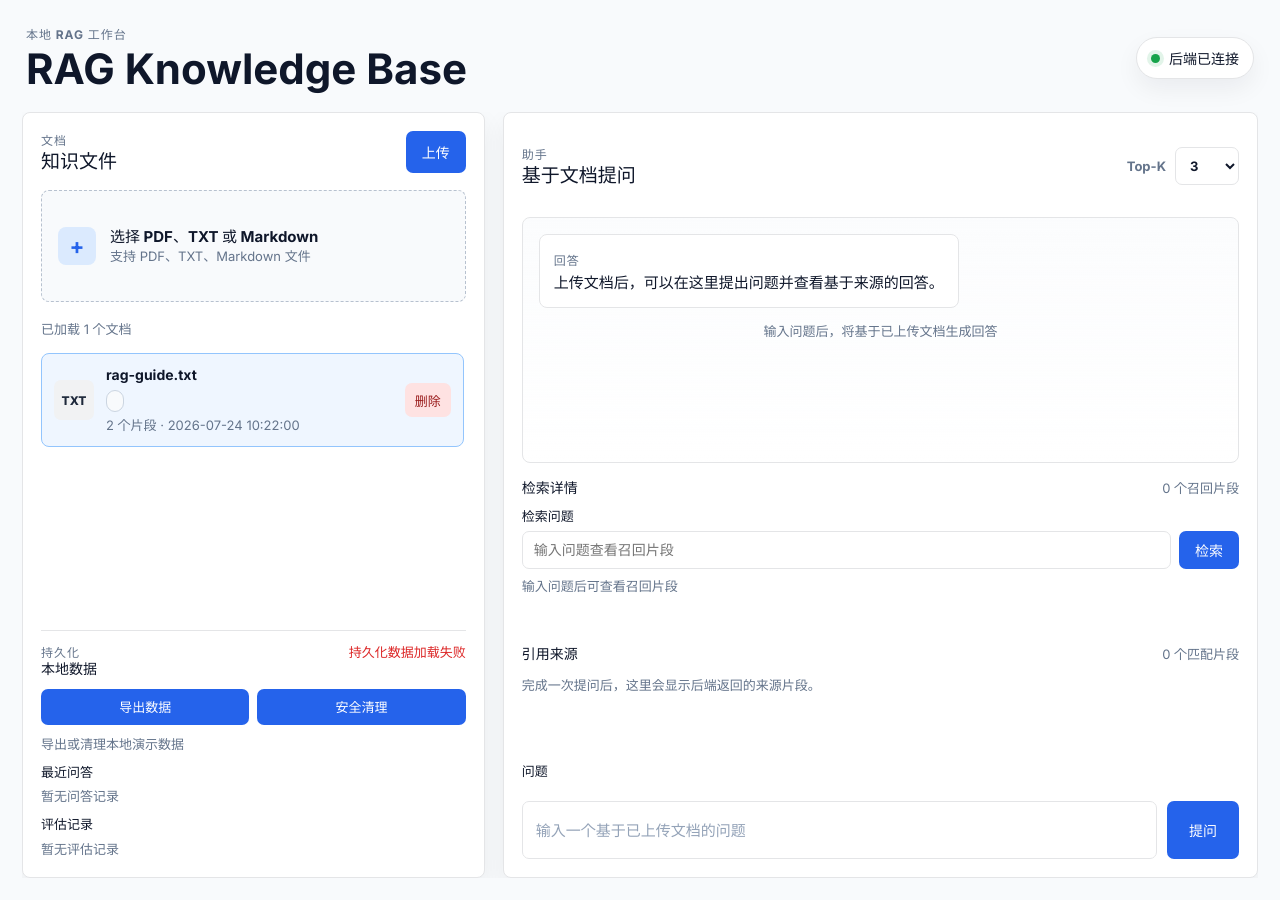
App document workflow › shows a delete error and keeps the document when deletion fails
Expected: the heading "rag-guide.txt" is shown, [106,366,197,383]
Click the button with aria-label "删除 rag-guide.txt": {"x": 428, "y": 400} [405,383,451,417]
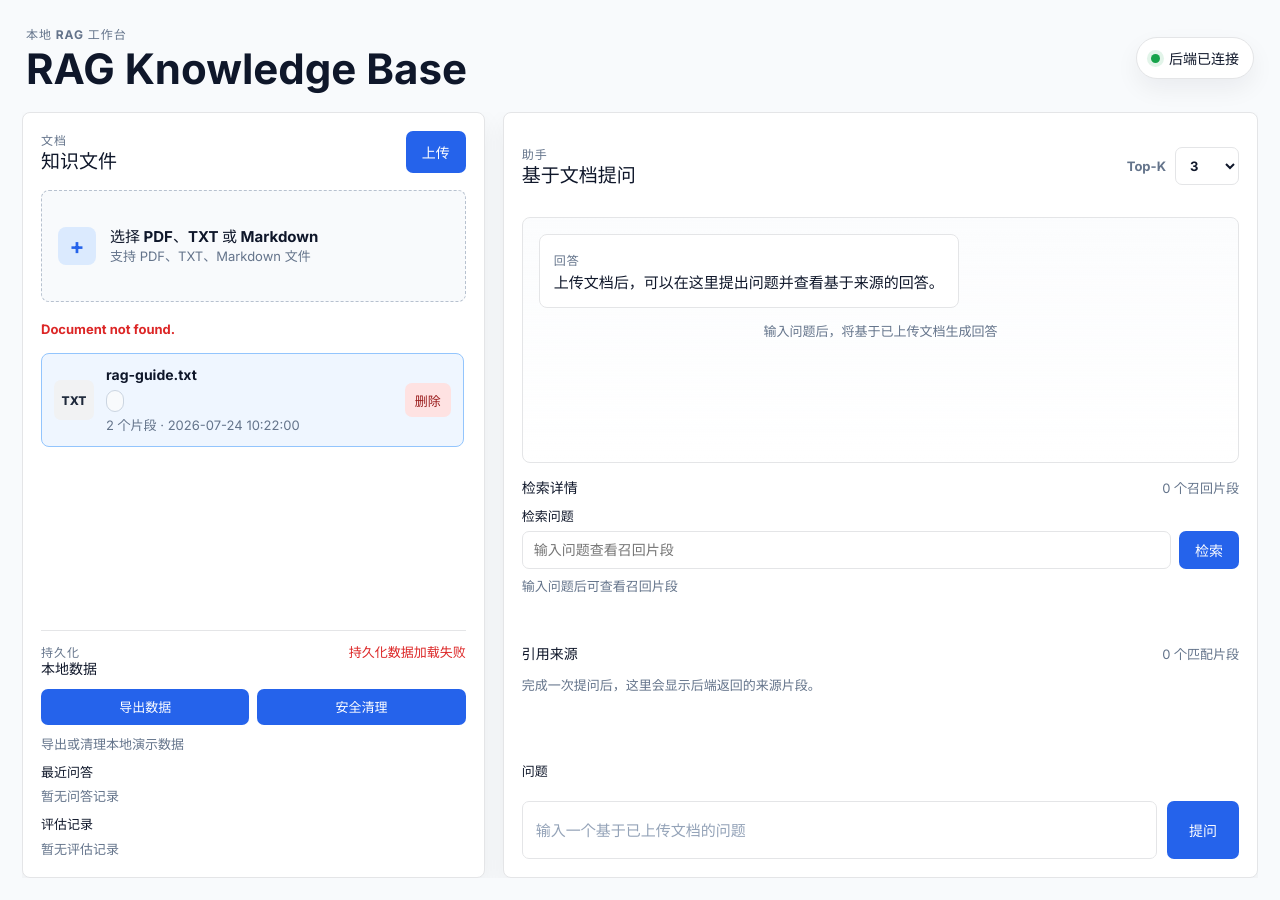
Expected: the heading "rag-guide.txt" is shown, [106,366,197,383]
Expected: the text "Document not found." is shown, [41,321,175,337]
